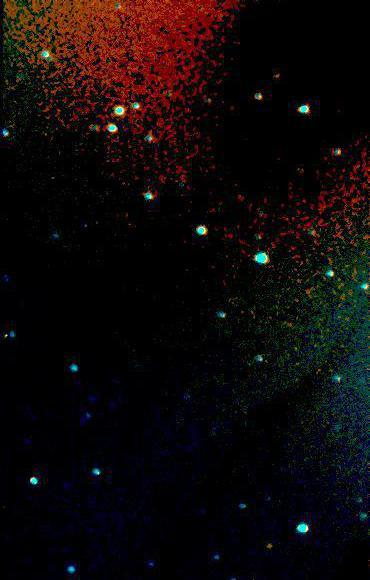star: (254, 530, 284, 560)
